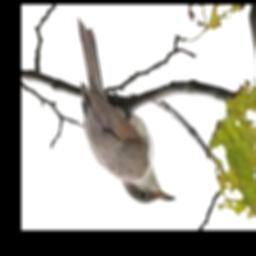Cuckoo: (78, 19, 176, 204)
